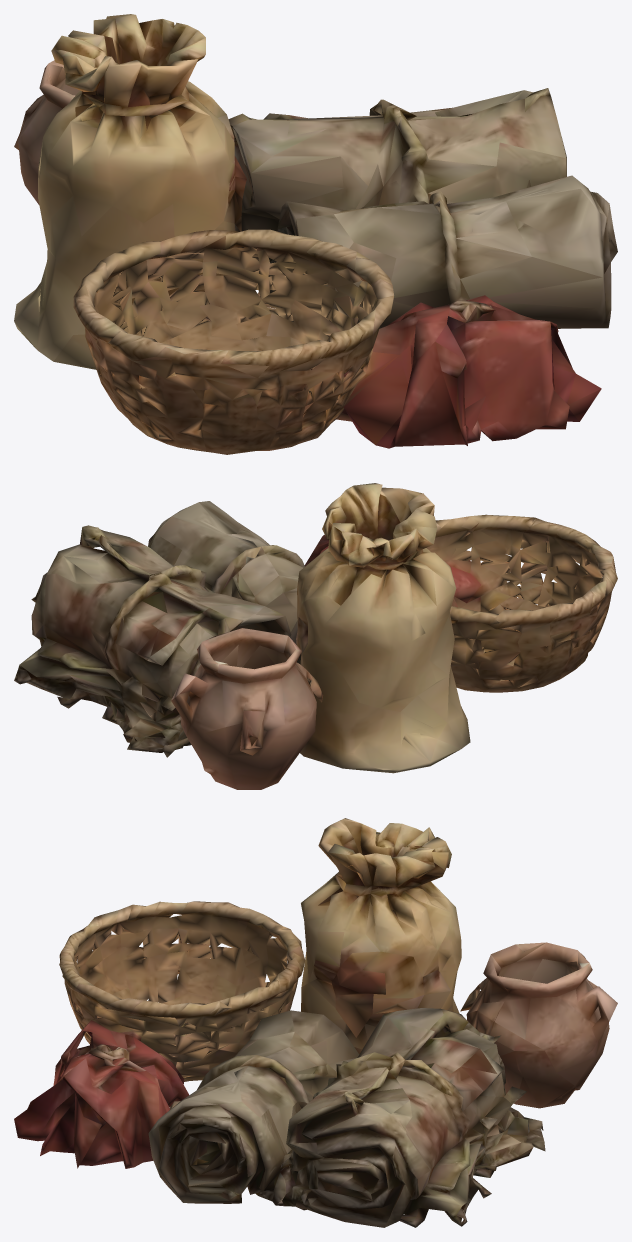
File: ch5-household-bundles.glb
The picture shows the model from 3 angles, top to bottom: view 1: azimuth 30°, elevation 25°; view 2: azimuth 150°, elevation 25°; view 3: azimuth 270°, elevation 25°; orthographic projection. The views are drawn at different scales.
Visible parts, largest first — view 1: tripo_node_dbdf4a04-8b06-48c1-9019-9609d6d1b428; view 2: tripo_node_dbdf4a04-8b06-48c1-9019-9609d6d1b428; view 3: tripo_node_dbdf4a04-8b06-48c1-9019-9609d6d1b428.
Boxes of the visible parts, x1,y1,x2,y2 form: tripo_node_dbdf4a04-8b06-48c1-9019-9609d6d1b428: (14,14,617,454); tripo_node_dbdf4a04-8b06-48c1-9019-9609d6d1b428: (14,483,617,789); tripo_node_dbdf4a04-8b06-48c1-9019-9609d6d1b428: (14,818,617,1227).
Bounding box in the file's own units: 1.9 × 0.9 × 2.08.
1 material, 1 textured.
